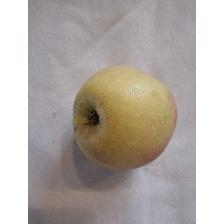Apfel: (71, 64, 180, 172)
